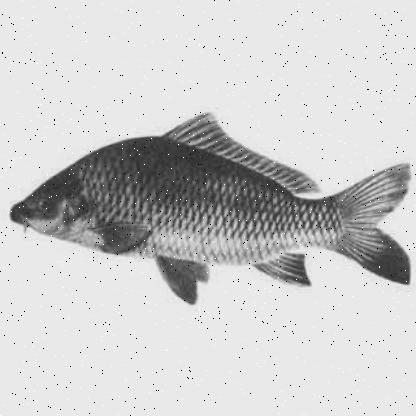ikan-mas: (14, 116, 414, 300)
